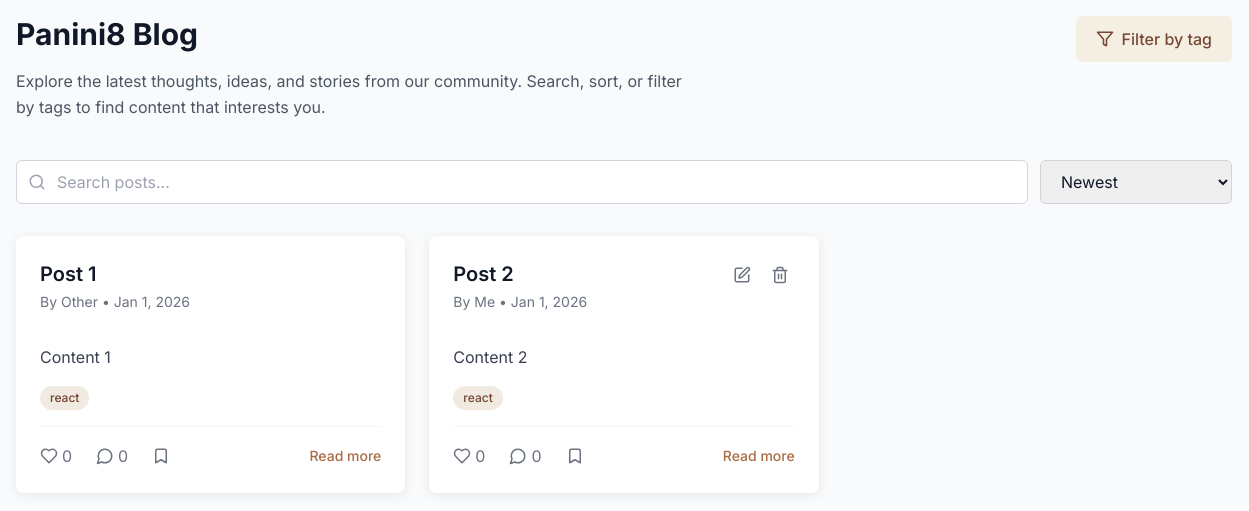
Home › likes a post through the API and lets the author delete theirs
Check: the heading "Post 1" is shown, box [40, 262, 96, 286]
Click the button "0" below "Content 1" at (56, 456), box [40, 443, 72, 469]
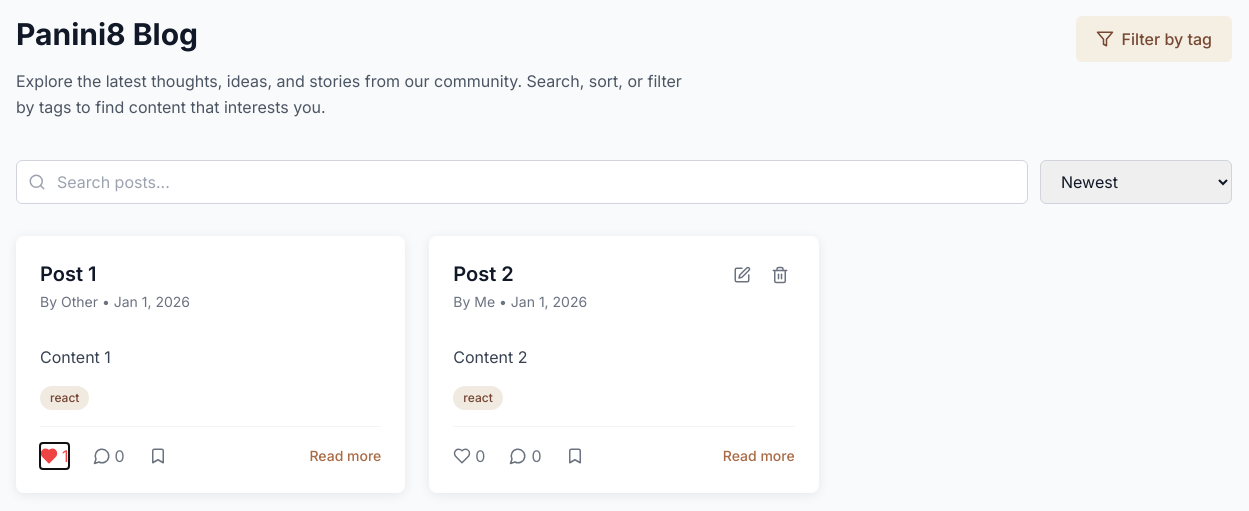
Click the button named "Delete post" at (780, 275), box [765, 260, 795, 290]
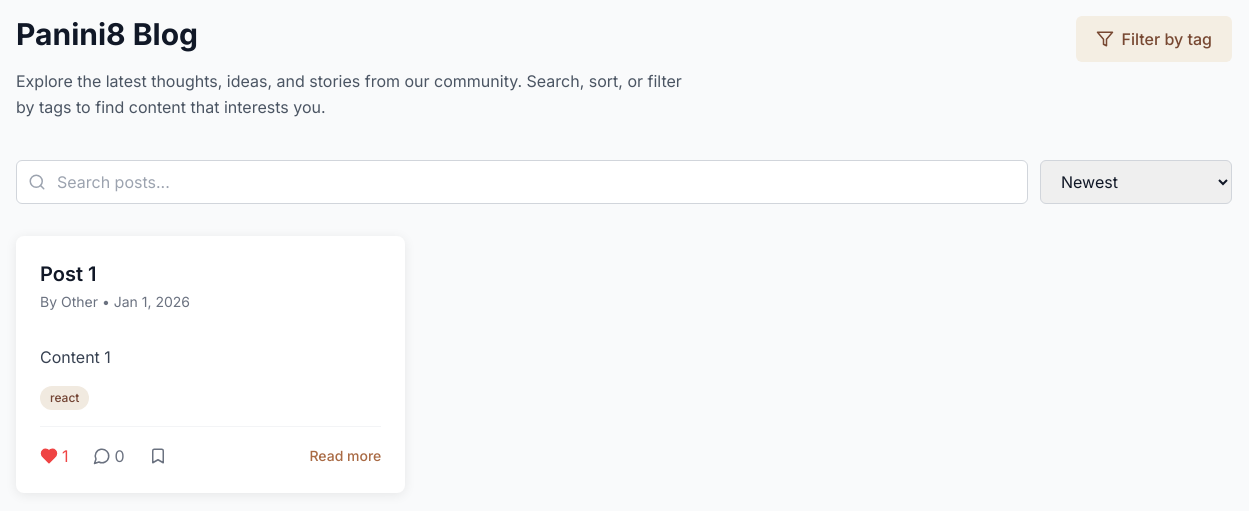
Check: the link "Post 2" is gone
